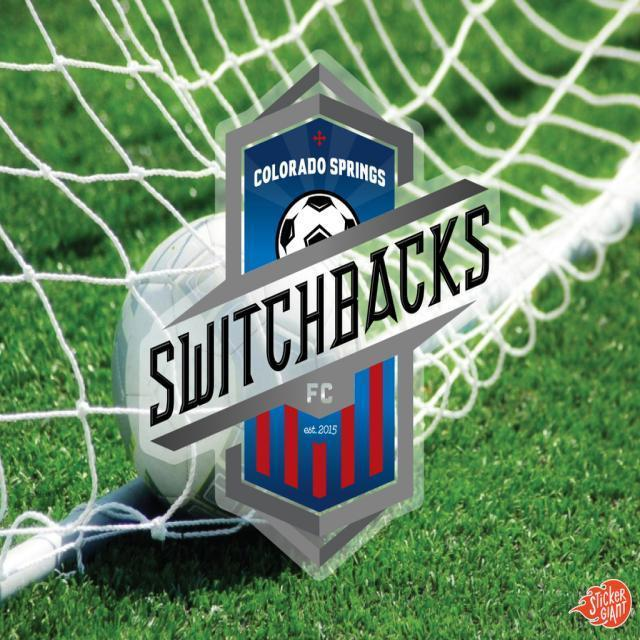ball: (112, 215, 371, 541)
